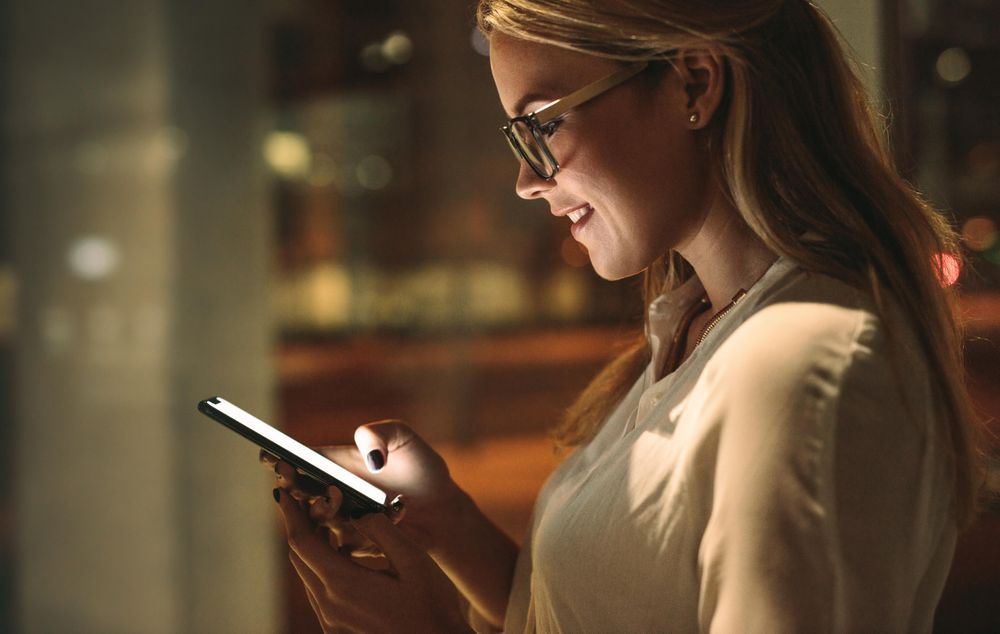Cell Phone: (198, 395, 390, 508)
